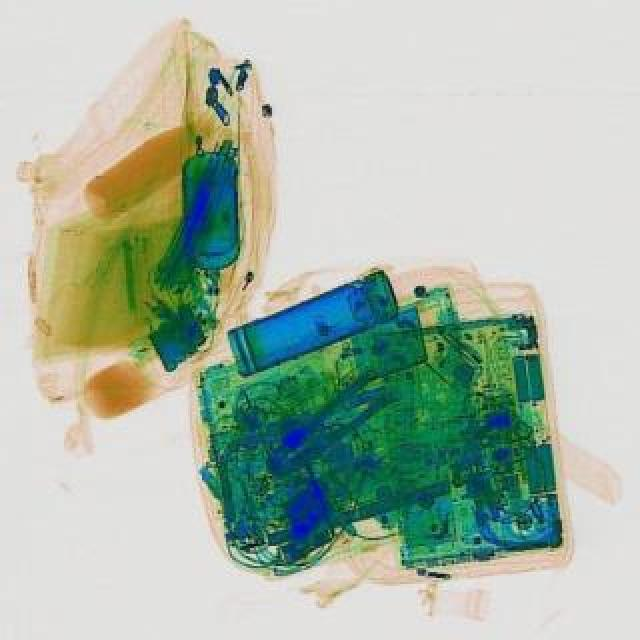wrench: (254, 368, 398, 484)
